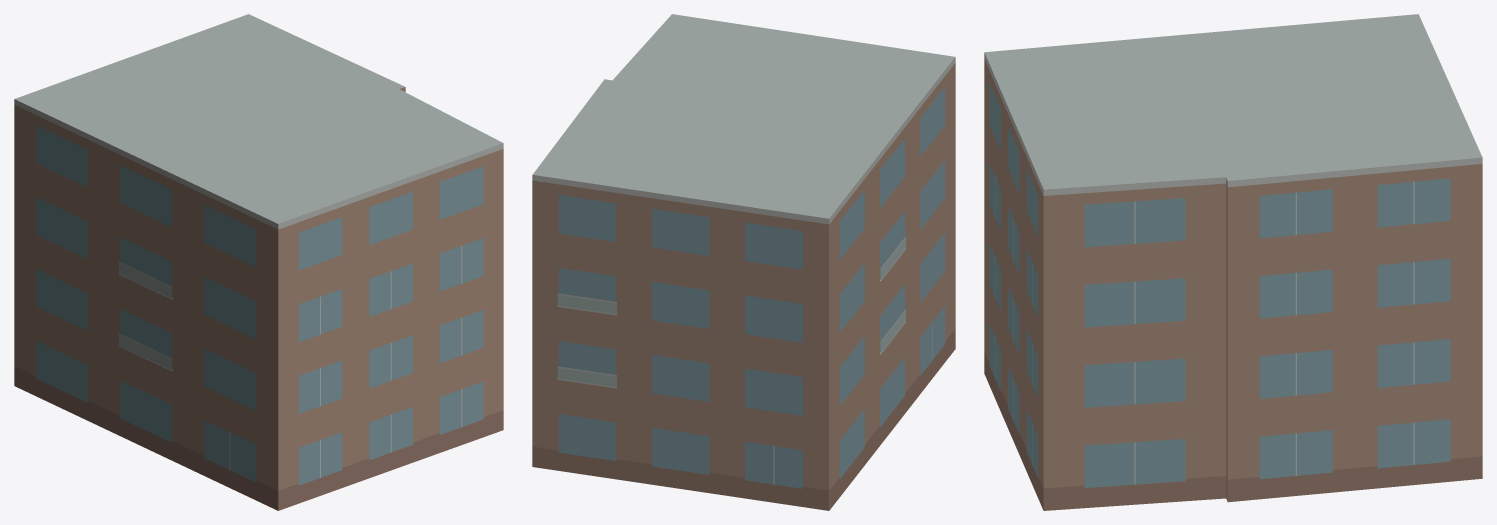
The model's file is survey-upis-32688174.glb.
3 views of the same model, side by side, from view 1: azimuth 30°, elevation 25°; view 2: azimuth 150°, elevation 25°; view 3: azimuth 270°, elevation 25° (orthographic). The views are drawn at different scales.
Parts seen in each view (by area): view 1: survey-upis-32688174.tmp; view 2: survey-upis-32688174.tmp; view 3: survey-upis-32688174.tmp.
Part boxes in pixels (x1,y1,x2,y2): survey-upis-32688174.tmp: (14, 14, 503, 510); survey-upis-32688174.tmp: (532, 14, 955, 510); survey-upis-32688174.tmp: (984, 14, 1482, 510).
Size of the model in its own units: 14.68 by 12.5 by 17.59.
